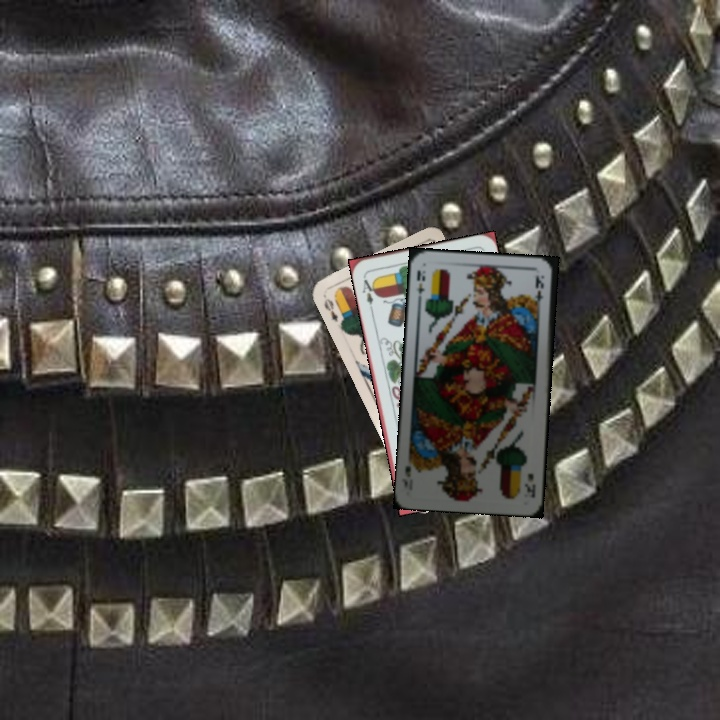EA: (358, 272, 379, 312)
EK: (412, 265, 428, 304), (520, 469, 538, 500)
EO: (320, 291, 341, 325)
